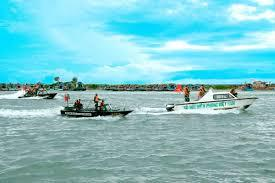Ship: (167, 90, 258, 114), (62, 94, 134, 118), (19, 90, 58, 100)
